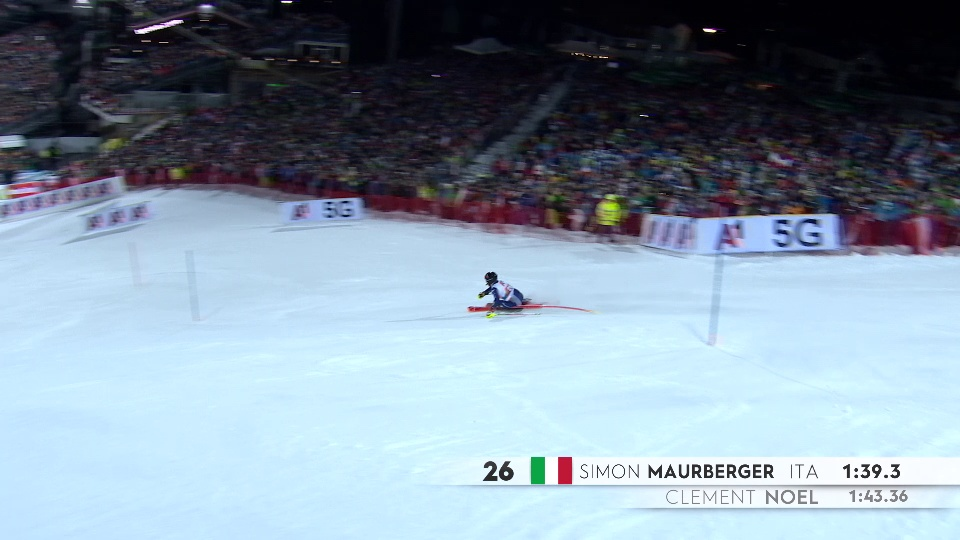5g: (772, 217, 826, 248), (318, 200, 357, 226)
a1: (714, 221, 752, 252)
